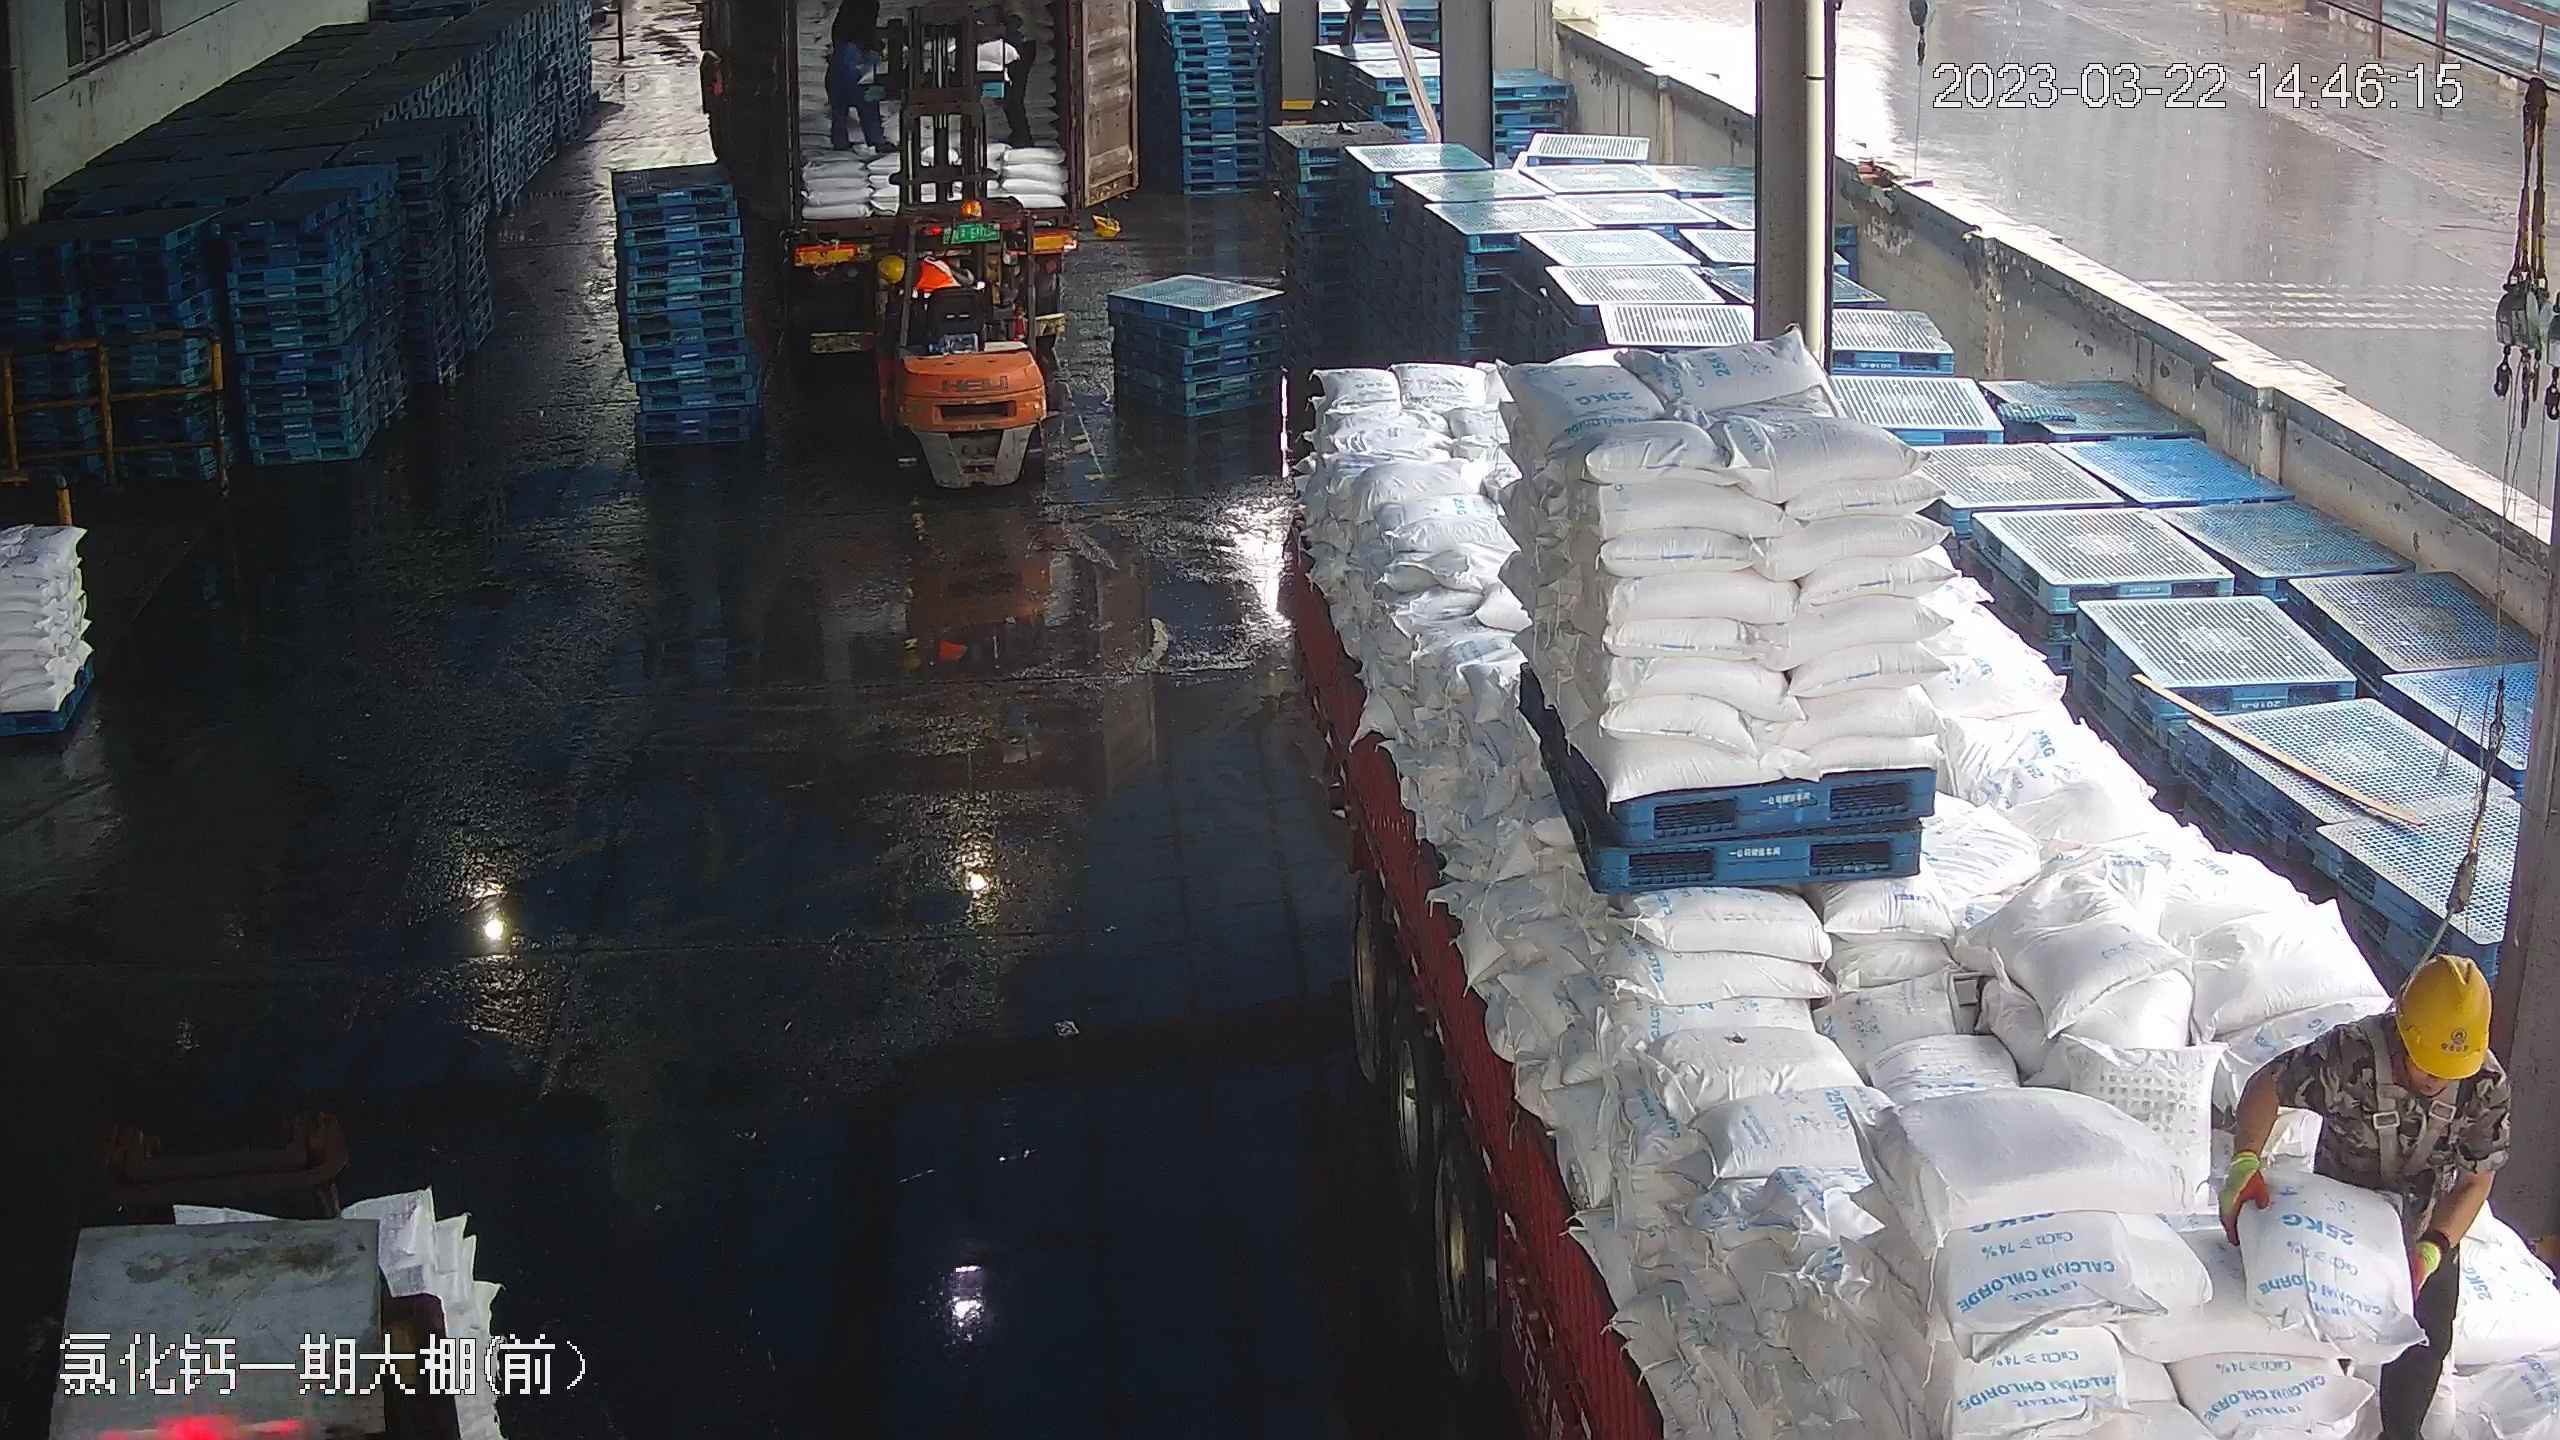belt: (2352, 1022, 2494, 1155)
head: (2316, 949, 2508, 1135)
helmet: (2391, 951, 2492, 1078)
people: (2212, 946, 2507, 1438)
truck: (1245, 205, 2540, 1440)
